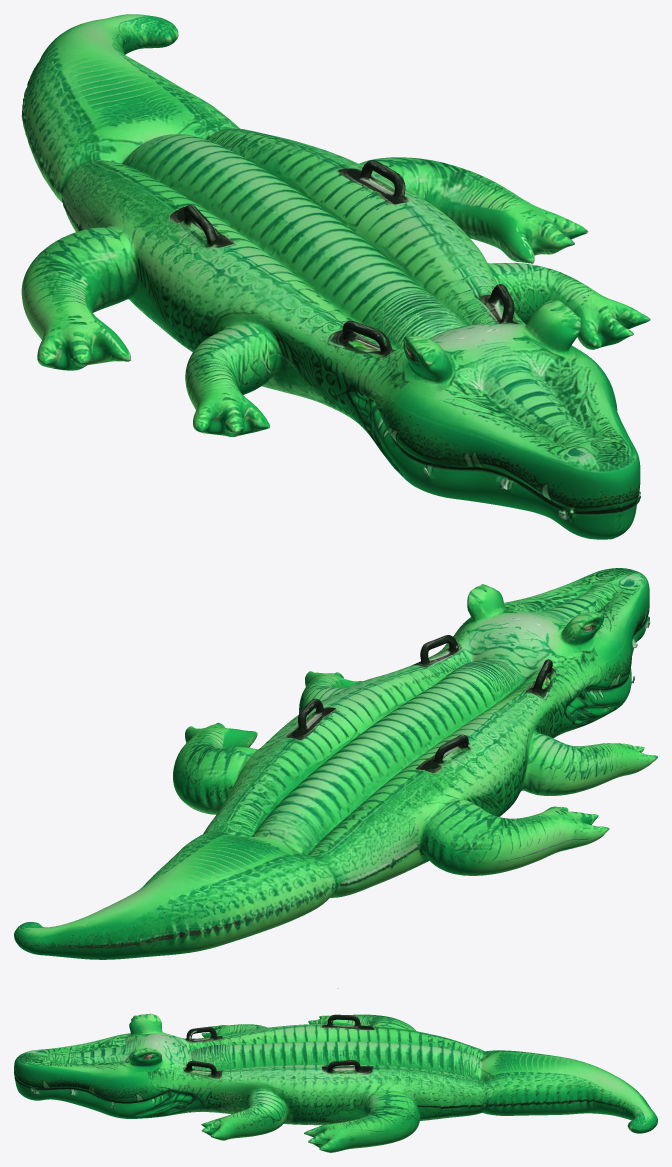
The model's file is crocodile_inflatable_pool_float.glb.
3 renders of one model, top to bottom at view 1: azimuth 30°, elevation 25°; view 2: azimuth 150°, elevation 25°; view 3: azimuth 270°, elevation 25°, orthographic. The views are drawn at different scales.
Visible parts, largest first — view 1: Object_5, Object_6; view 2: Object_5, Object_6; view 3: Object_5, Object_6.
Part boxes in pixels (x1,y1,x2,y2): Object_5: (21, 14, 650, 539); Object_6: (200, 284, 629, 507); Object_5: (14, 568, 657, 959); Object_6: (340, 584, 637, 731); Object_5: (14, 988, 657, 1152); Object_6: (46, 1013, 215, 1118).
Size of the model in its own units: 0.9273 by 0.2802 by 1.9.
Materials: 1 (1 with a texture image).
